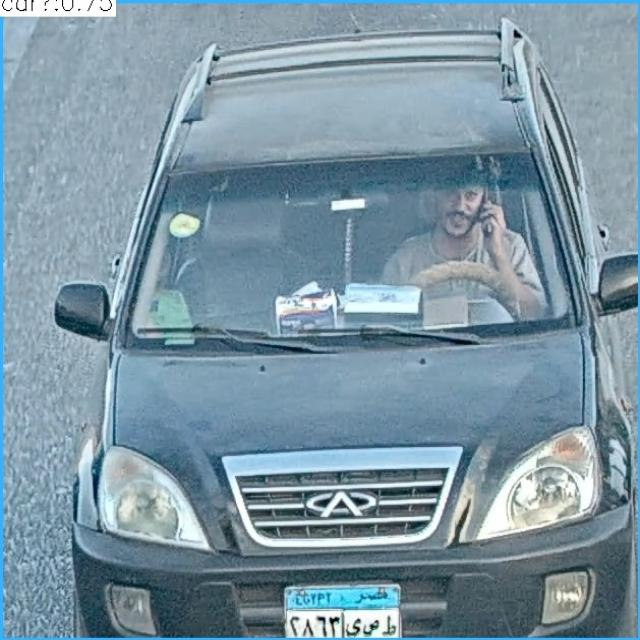windshield: (126, 164, 558, 325)
